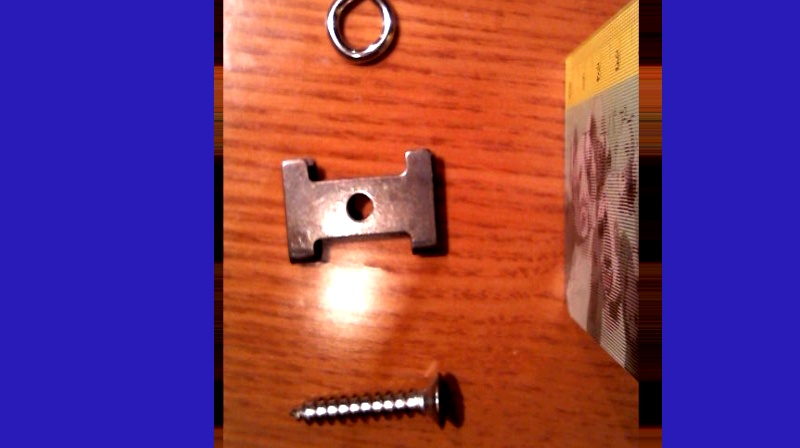O001: (322, 0, 399, 67)
O002: (278, 145, 443, 267)
S001: (286, 362, 452, 438)
